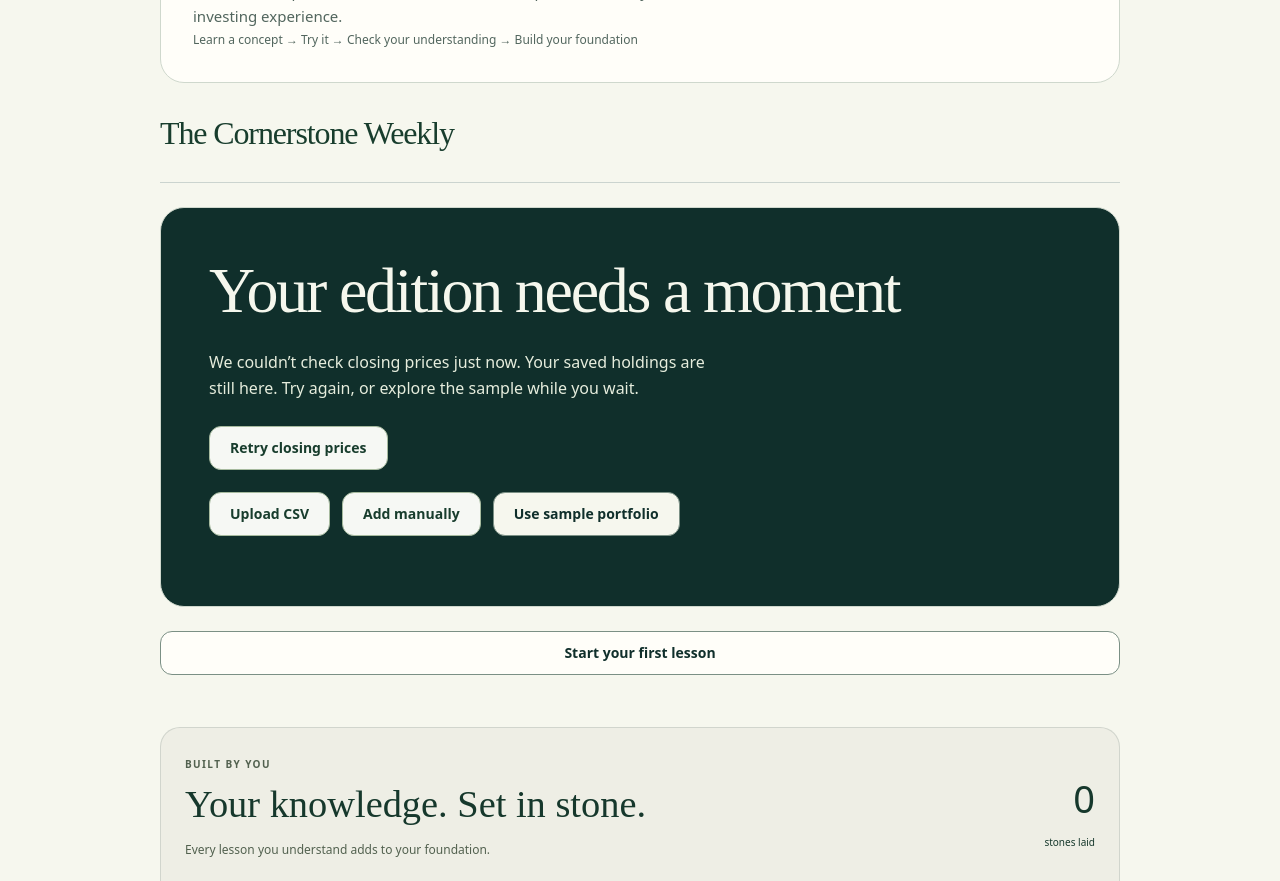
it: shows skeletons while pending, preserves holdings on error, and recovers on retry
Later steps or results of the test are not shown.
(page scrolled)
Click the button "Retry closing prices" at (298, 448), box 209,426 -> 388,470
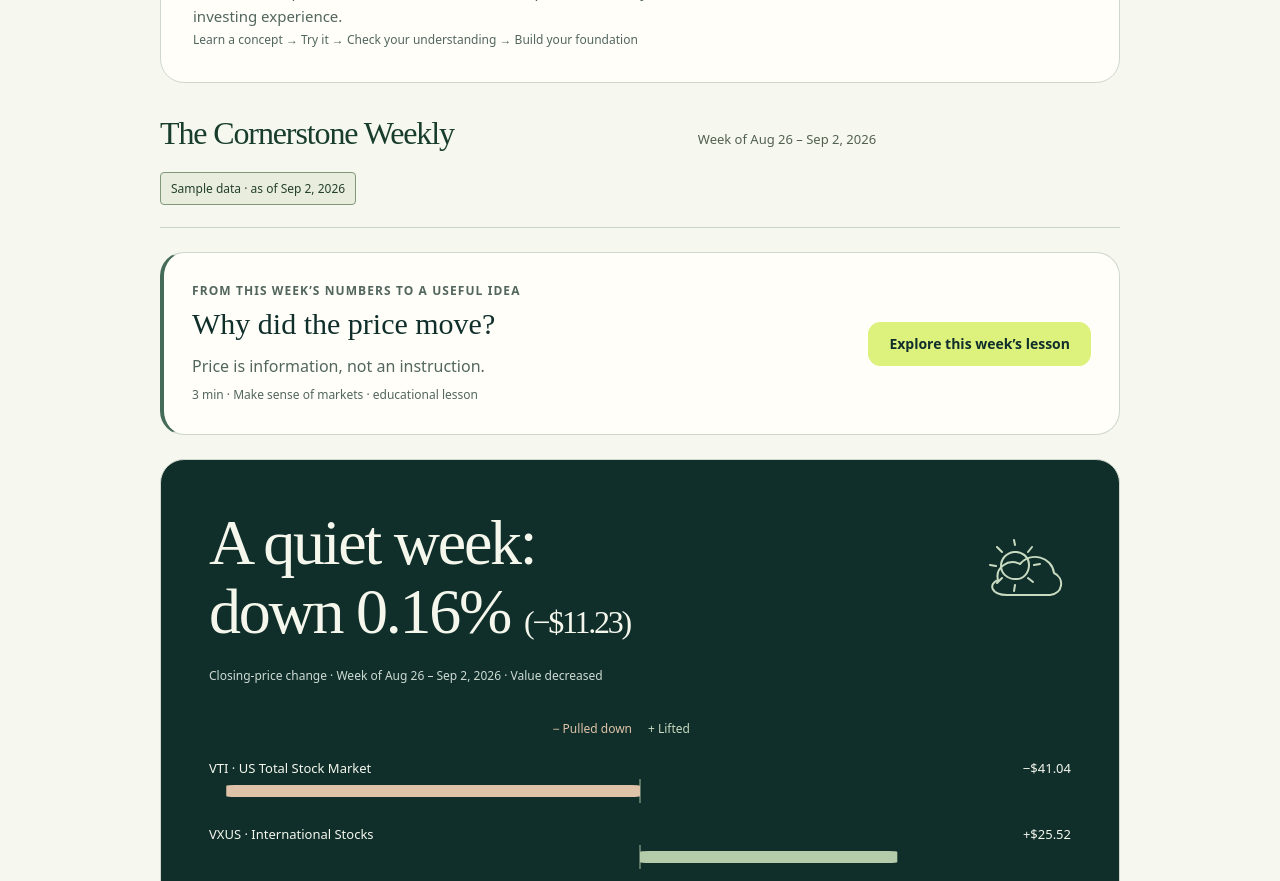
Check: the heading "A quiet week: down 0.16% (−$11.23)" is shown, box 209,507 -> 630,647
Check: the message is gone
